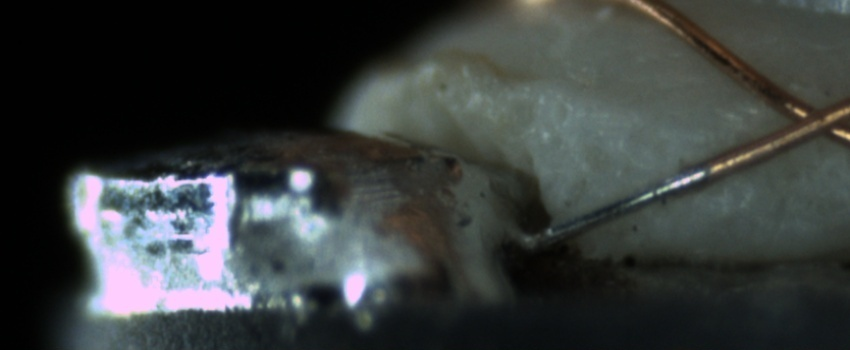CL: (764, 77, 850, 154)
DL: (555, 99, 726, 139)
TS: (531, 167, 712, 249)
TTCW: (527, 139, 762, 251)
